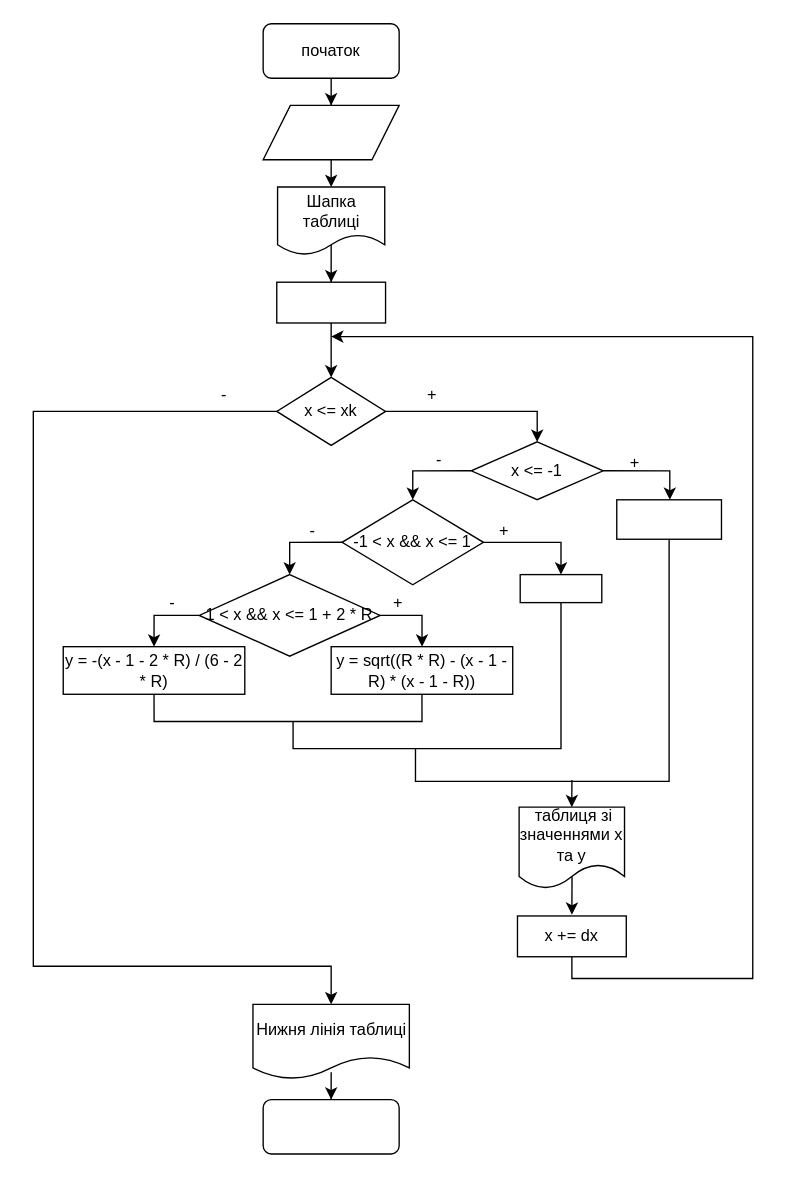
This 787x1178 diagram has some shape labels left out. The shapes that lost their labels are listed below. From the top down, each one's box as (x1, y1, x2, y2) in pixels, then its label:
(262, 104, 399, 160): xp,xk,dx,R
(275, 281, 386, 323): x = xp
(615, 498, 721, 539): y = -x - 1
(519, 573, 602, 603): y = 0
(262, 1098, 399, 1154): кінець
